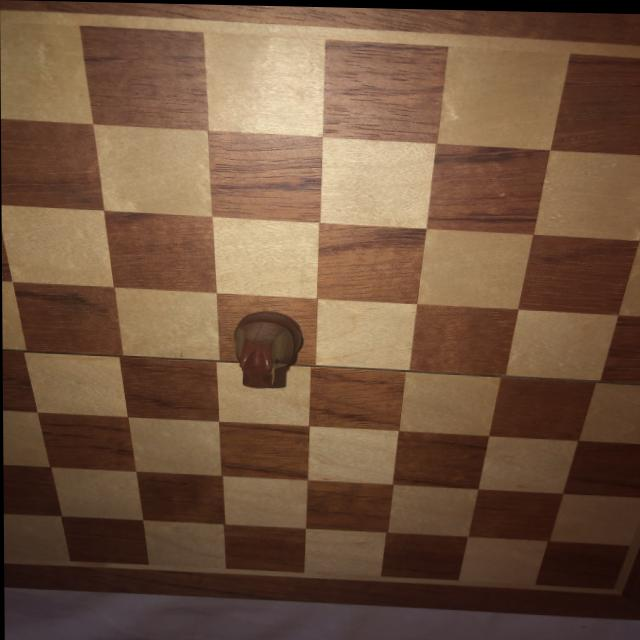black_knight: (229, 309, 305, 392)
